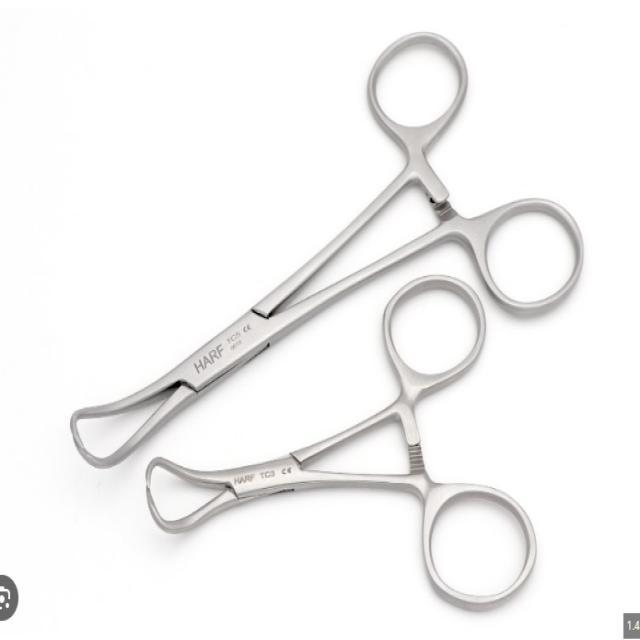Backhaus Towel Clamp: (62, 22, 584, 472), (141, 276, 548, 613)
